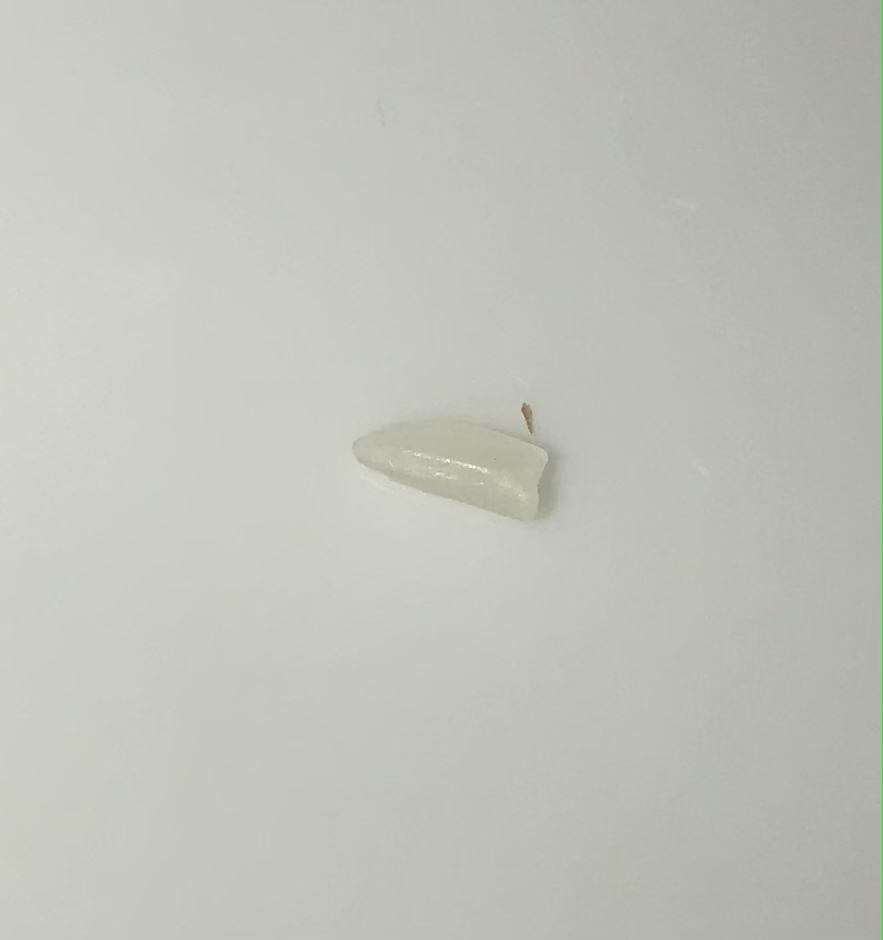Gao Tam: (353, 383, 568, 560)
